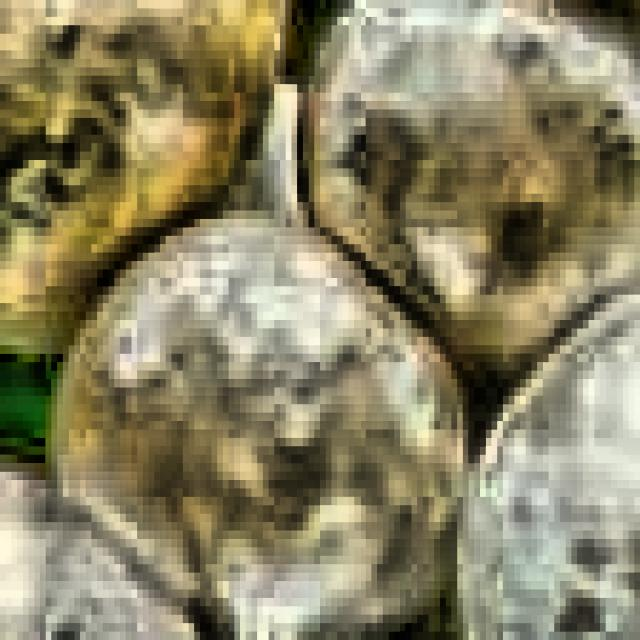Affected: (344, 28, 621, 312), (114, 338, 337, 571), (0, 0, 166, 261)
